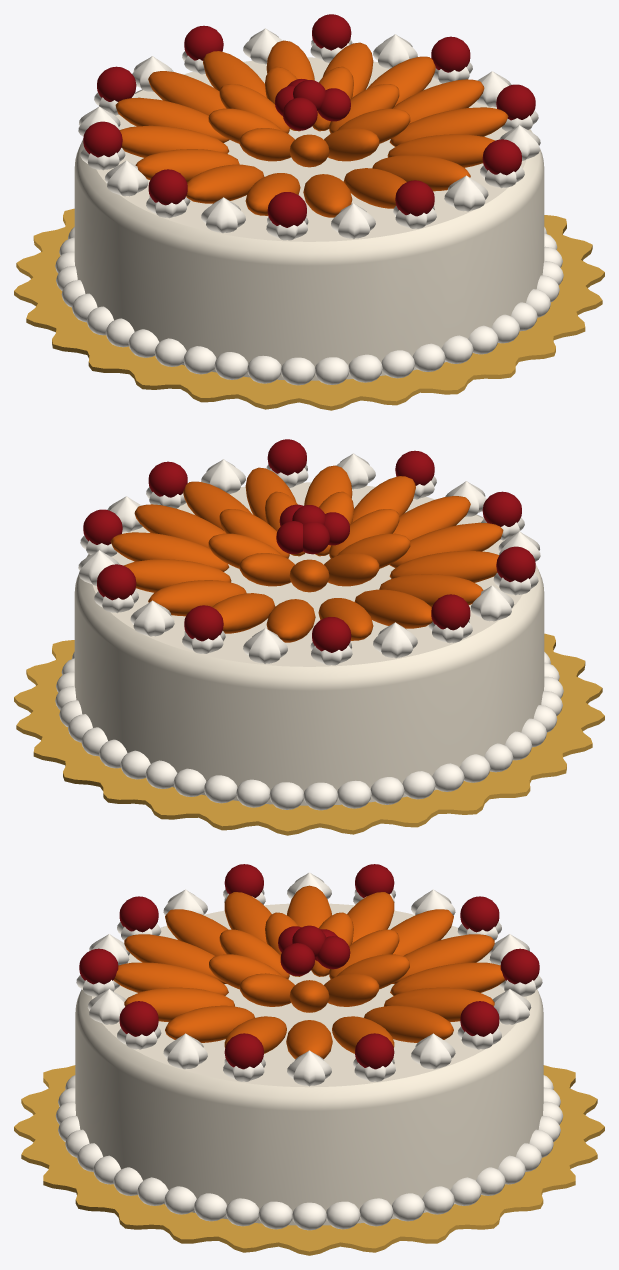
The model's file is producto.glb.
3 renders of one model, top to bottom at view 1: azimuth 30°, elevation 25°; view 2: azimuth 150°, elevation 25°; view 3: azimuth 270°, elevation 25°, orthographic.
Parts seen in each view (by area): view 1: bizcocho, melocoton, nata, blonda, cerezas; view 2: bizcocho, melocoton, nata, blonda, cerezas; view 3: bizcocho, melocoton, nata, blonda, cerezas.
Part boxes in pixels (bbox=[...]): bizcocho: bbox=[74, 57, 544, 380]; melocoton: bbox=[115, 40, 508, 217]; nata: bbox=[55, 28, 563, 385]; blonda: bbox=[14, 208, 604, 410]; cerezas: bbox=[83, 14, 535, 227]; bizcocho: bbox=[74, 482, 544, 805]; melocoton: bbox=[110, 465, 503, 642]; nata: bbox=[55, 453, 563, 810]; blonda: bbox=[14, 633, 604, 835]; cerezas: bbox=[83, 439, 535, 652]; bizcocho: bbox=[75, 903, 543, 1225]; melocoton: bbox=[113, 885, 505, 1058]; nata: bbox=[55, 872, 563, 1230]; blonda: bbox=[14, 1065, 604, 1255]; cerezas: bbox=[79, 864, 539, 1069].
Size of the model in its own units: 2.53 by 0.96 by 2.53.
